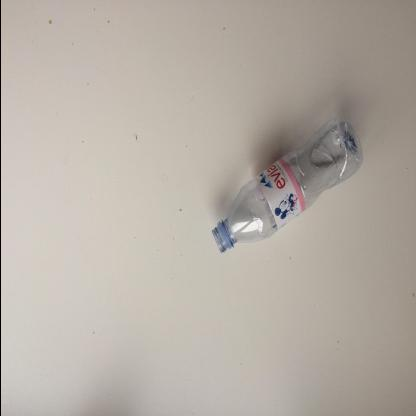plastik: (210, 116, 363, 252)
